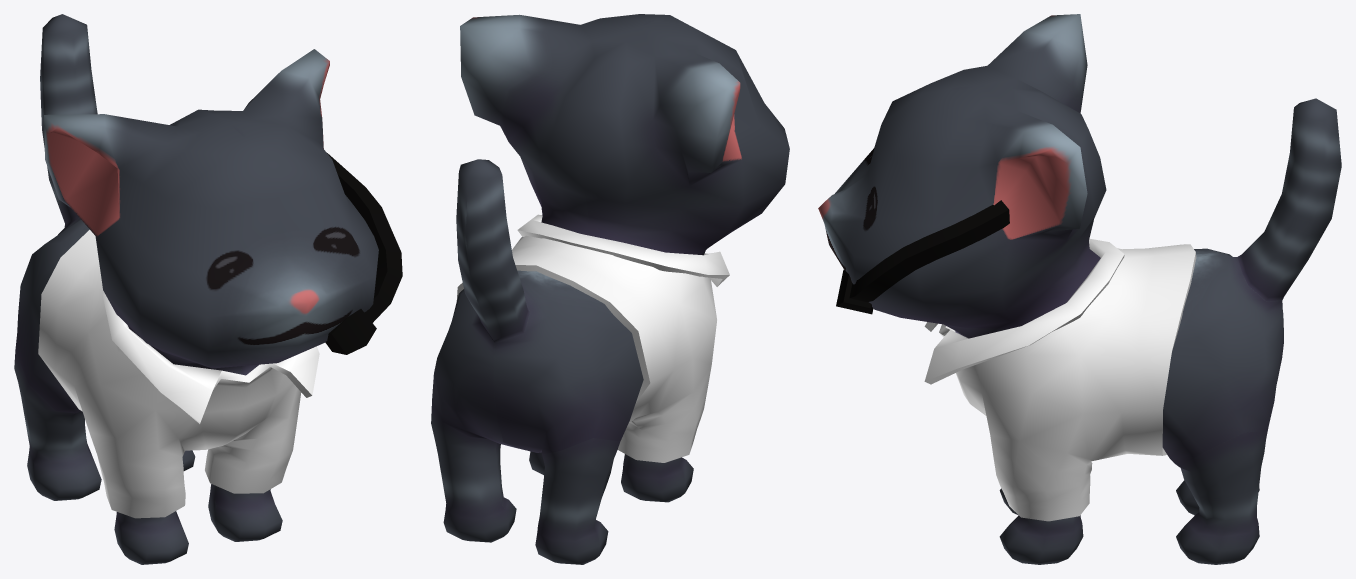
The model's file is Conference Cat04.fbx.
3 views of the same model, side by side, from view 1: azimuth 30°, elevation 25°; view 2: azimuth 150°, elevation 25°; view 3: azimuth 270°, elevation 25° (orthographic). The views are drawn at different scales.
Visible parts, largest first — view 1: Cat_Base003, Conference_Cat_Shirt, Conference_Cat_Mic; view 2: Cat_Base003, Conference_Cat_Shirt; view 3: Cat_Base003, Conference_Cat_Shirt, Conference_Cat_Mic.
Boxes of the visible parts, box(x1,y1,x2,y2) form: Cat_Base003: box(14, 14, 378, 564); Conference_Cat_Shirt: box(38, 229, 319, 518); Conference_Cat_Mic: box(325, 153, 402, 354); Cat_Base003: box(431, 14, 789, 564); Conference_Cat_Shirt: box(456, 214, 729, 462); Cat_Base003: box(818, 14, 1341, 564); Conference_Cat_Shirt: box(924, 238, 1196, 521); Conference_Cat_Mic: box(836, 200, 1009, 314).
Bounding box in the file's own units: 1.75 × 2.83 × 2.68.
Materials: 3 (1 with a texture image).
